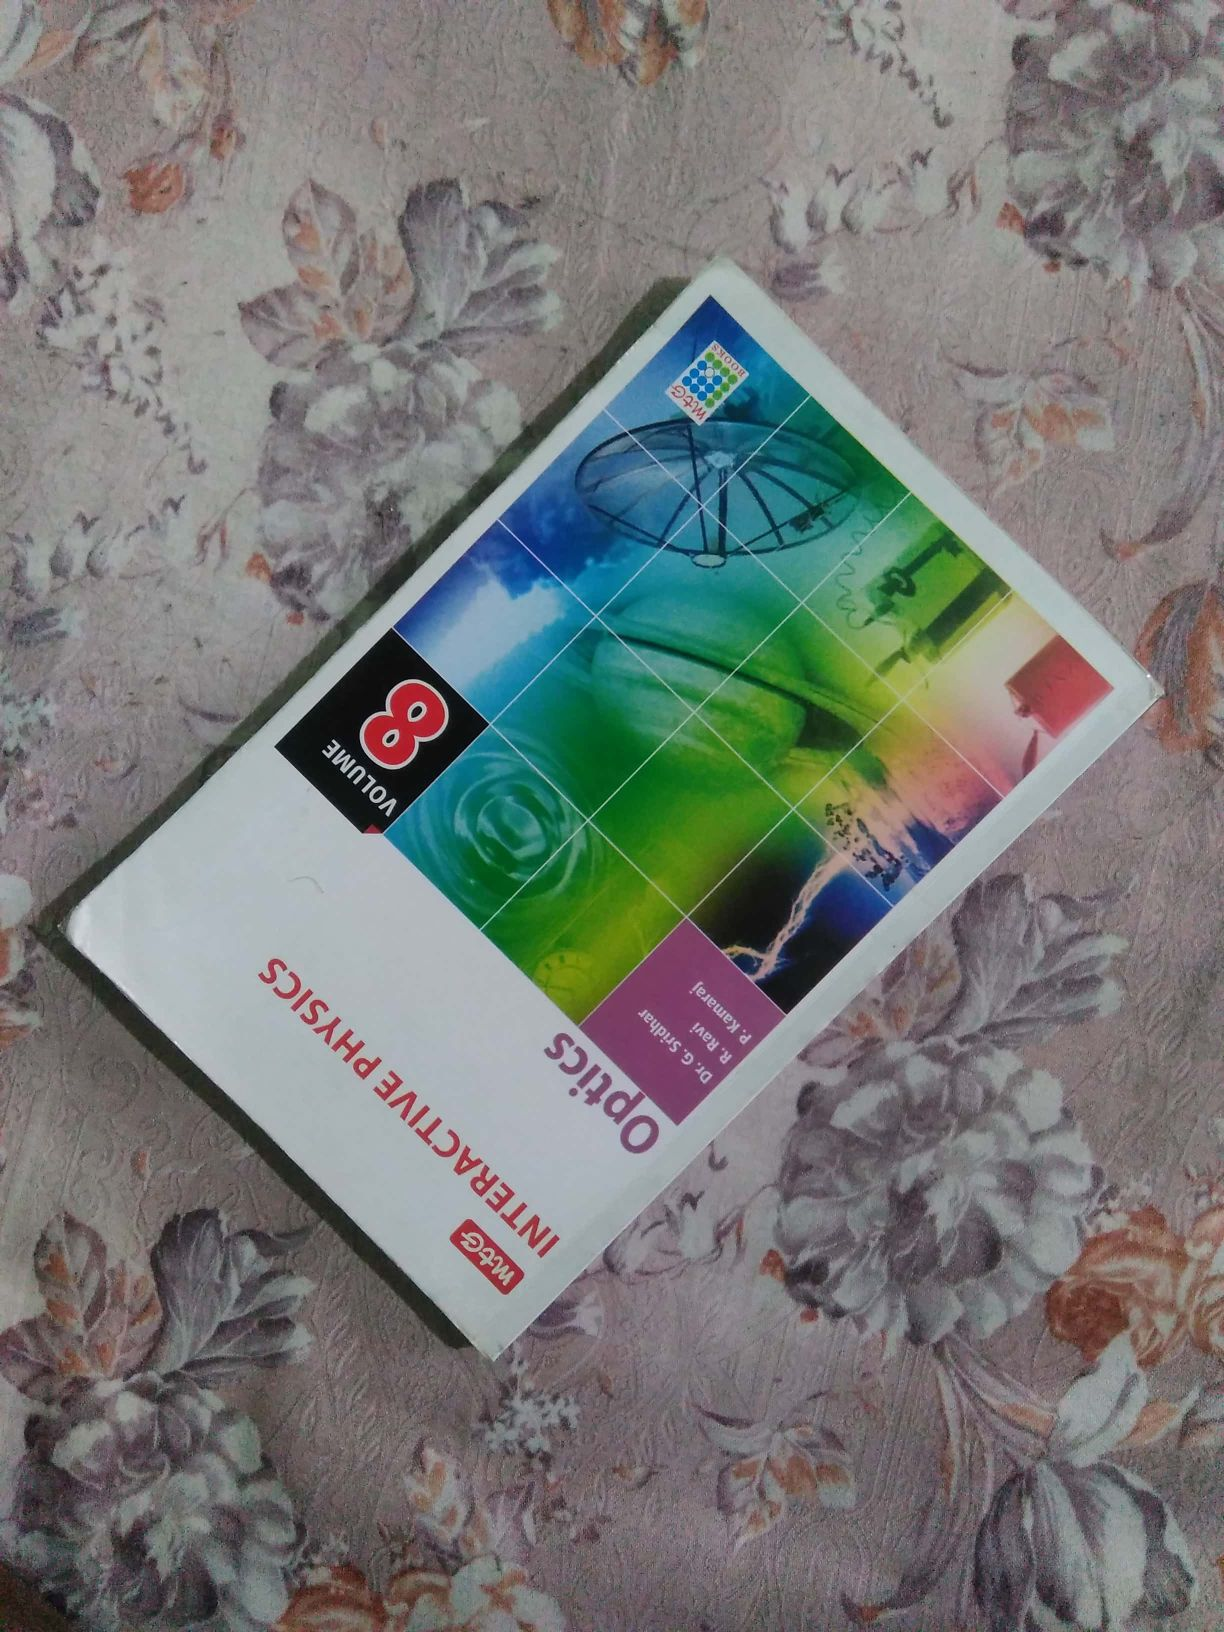optics: (141, 288, 1048, 1348)
